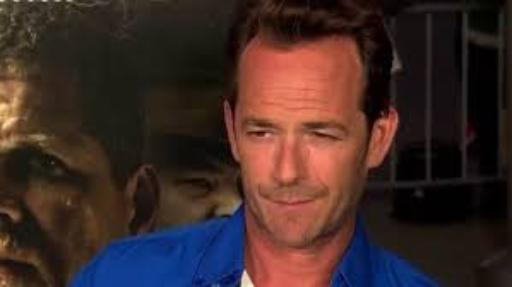left_eye: (308, 131, 344, 143)
left_lip_corner: (308, 197, 319, 207)
right_eye: (247, 129, 280, 140)
right_lip_corner: (260, 193, 274, 205)
